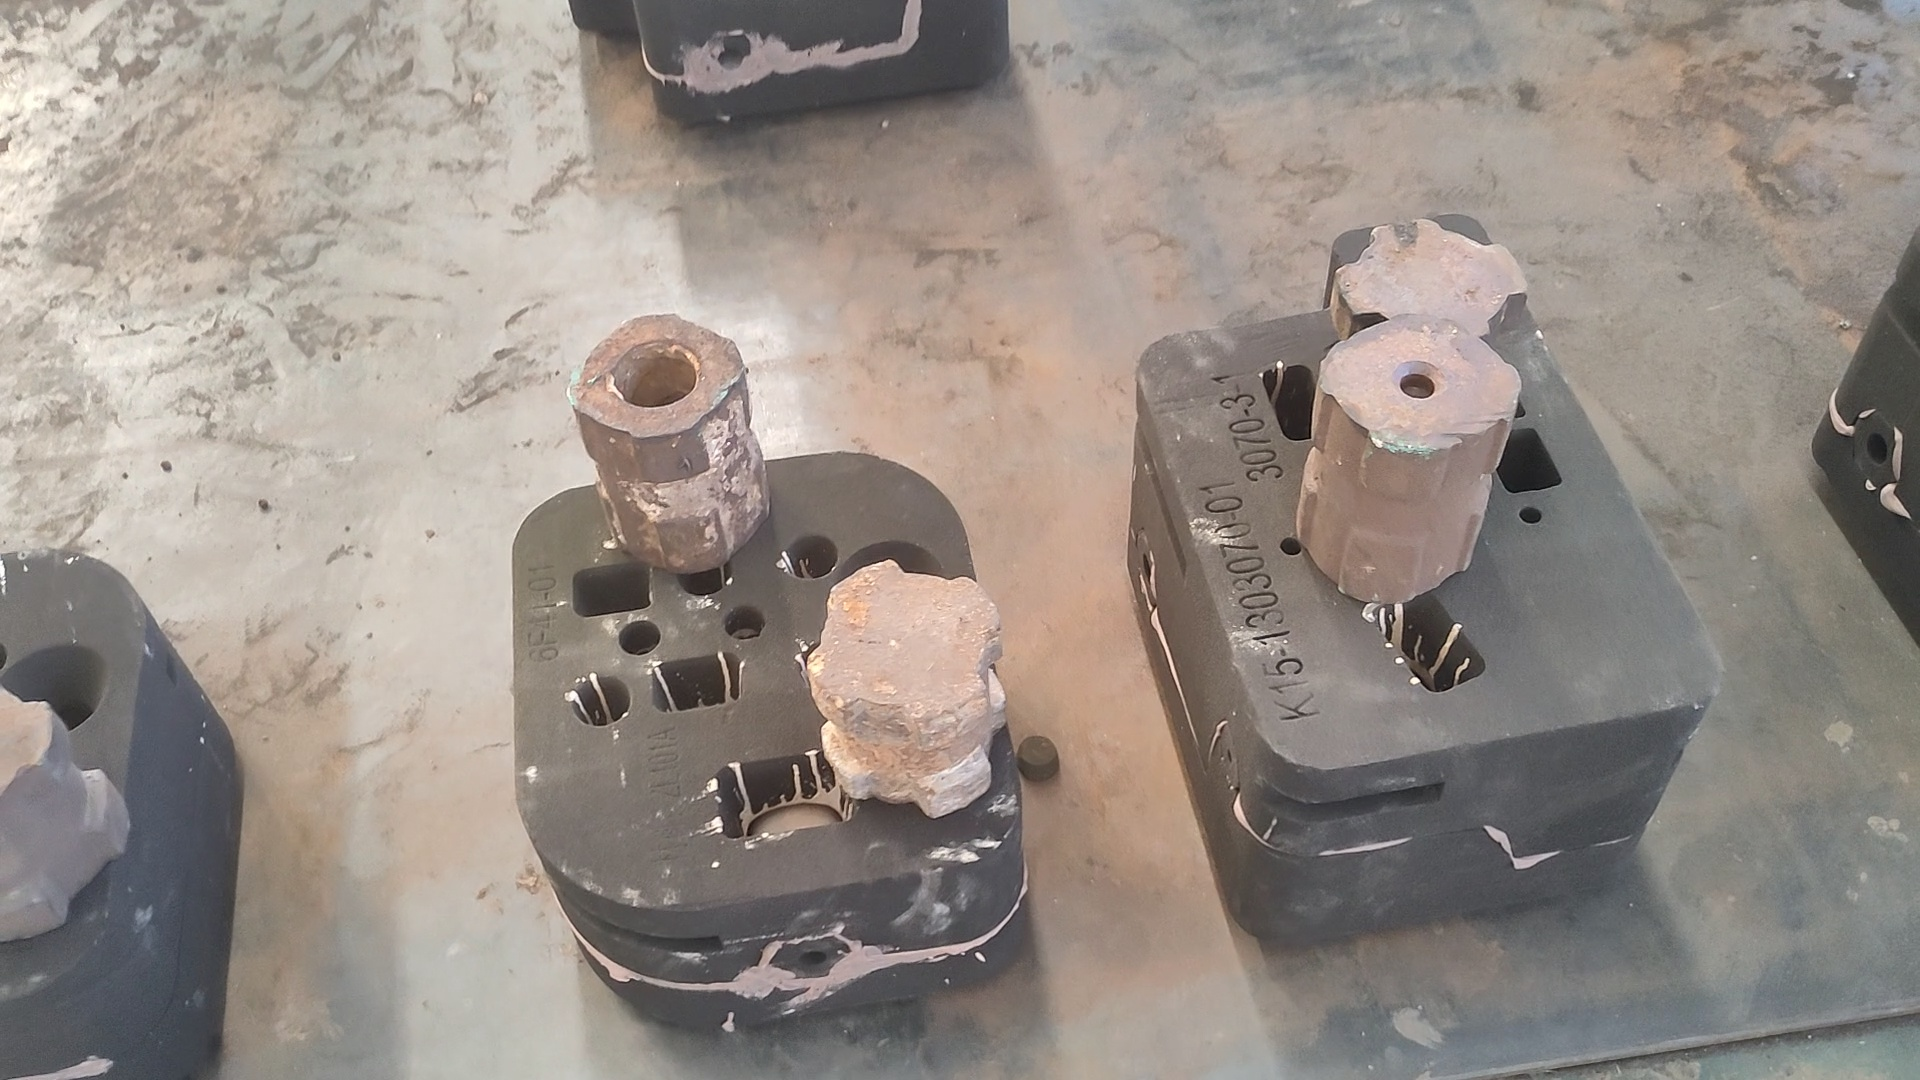pouring hole: (1, 641, 103, 736), (833, 538, 949, 618), (1375, 255, 1486, 323)
